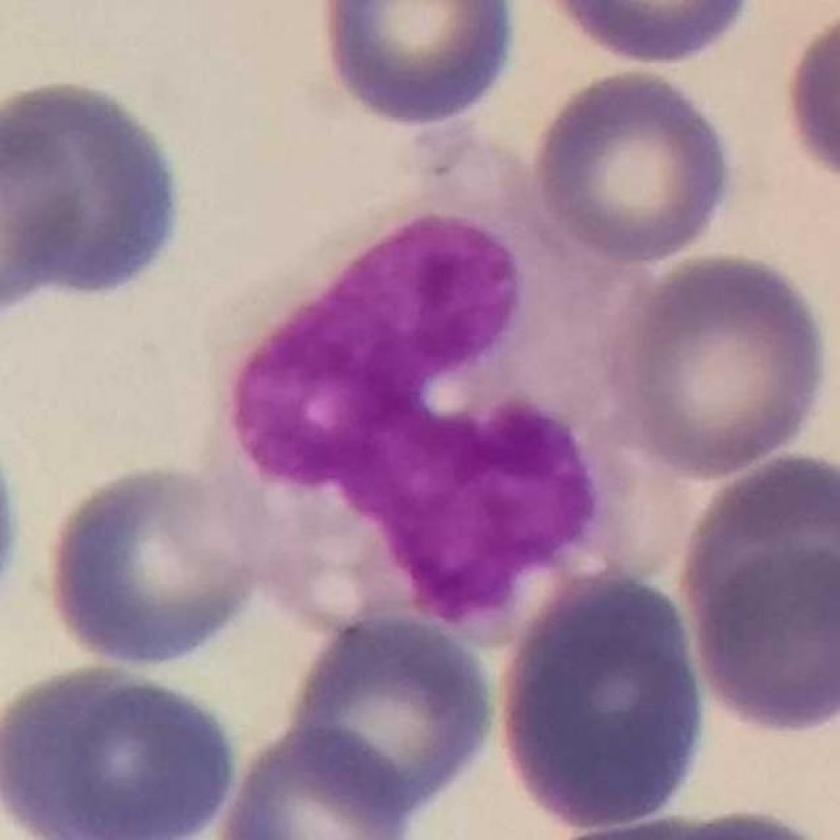monocyte: (195, 125, 701, 654)
